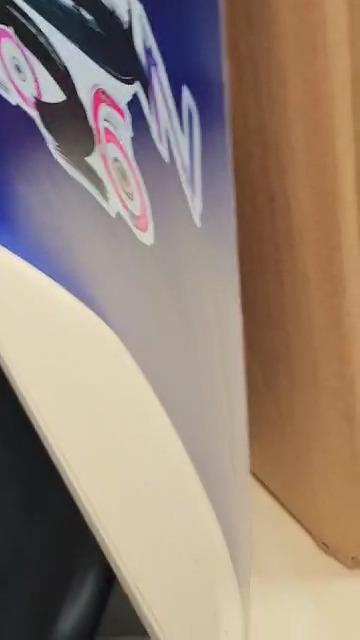B_R1: (0, 0, 216, 266)
